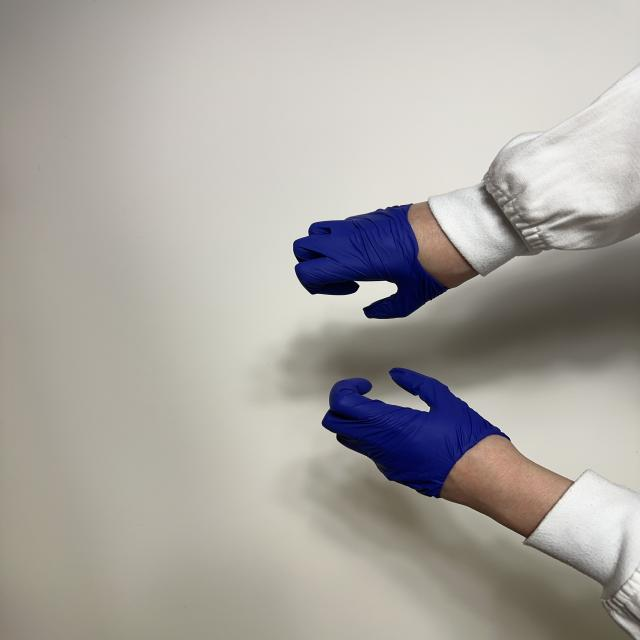glove_not_fitted: (318, 367, 574, 536), (293, 200, 487, 320)
